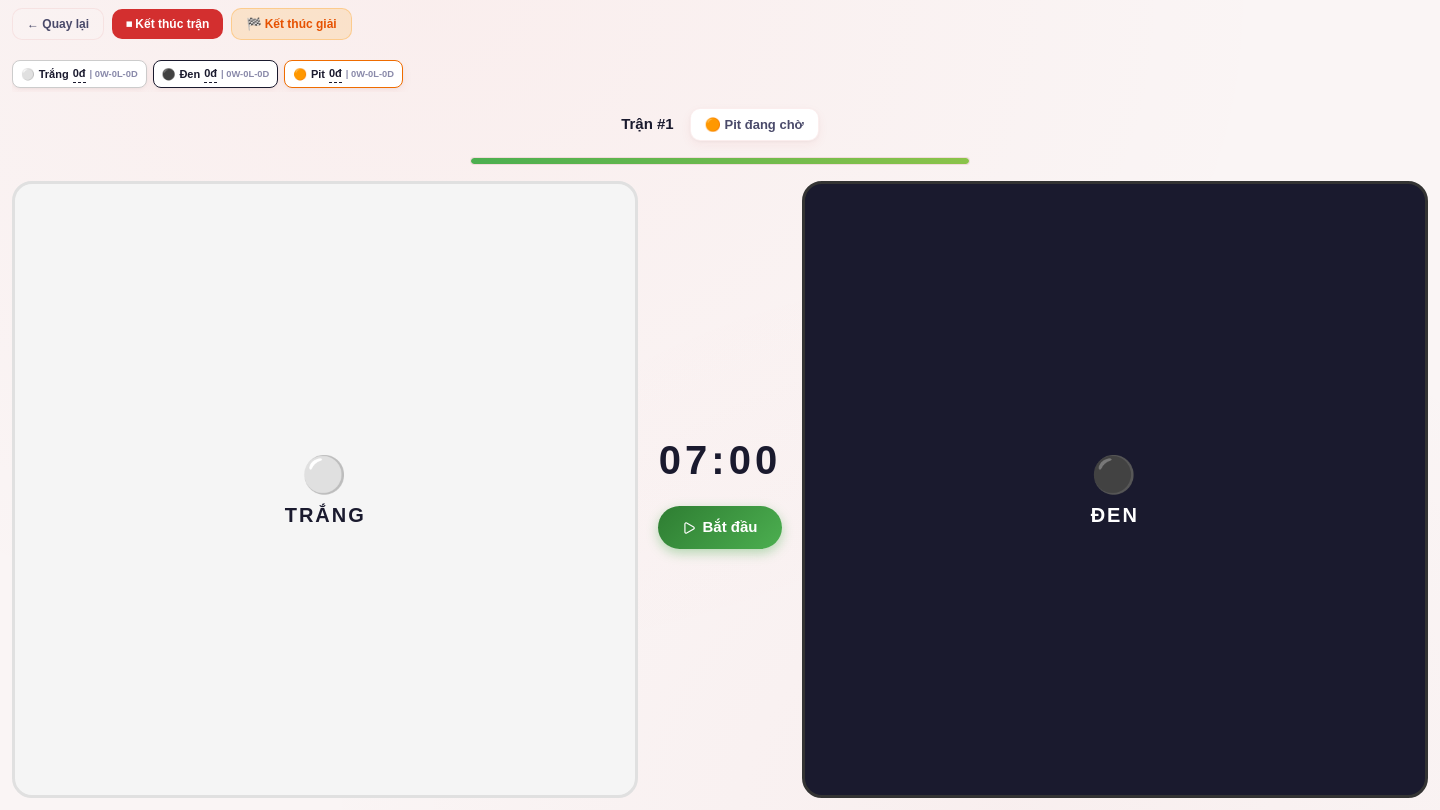
Test case: ThreeTeamMode › Scoring phase - Chọn tỉ số › click tỉ số → chuyển sang confirm phase
The image size is (1440, 810).
Click the button "⏹ Kết thúc trận".
click(168, 24)  # box x1=112 y1=9 x2=223 y2=39
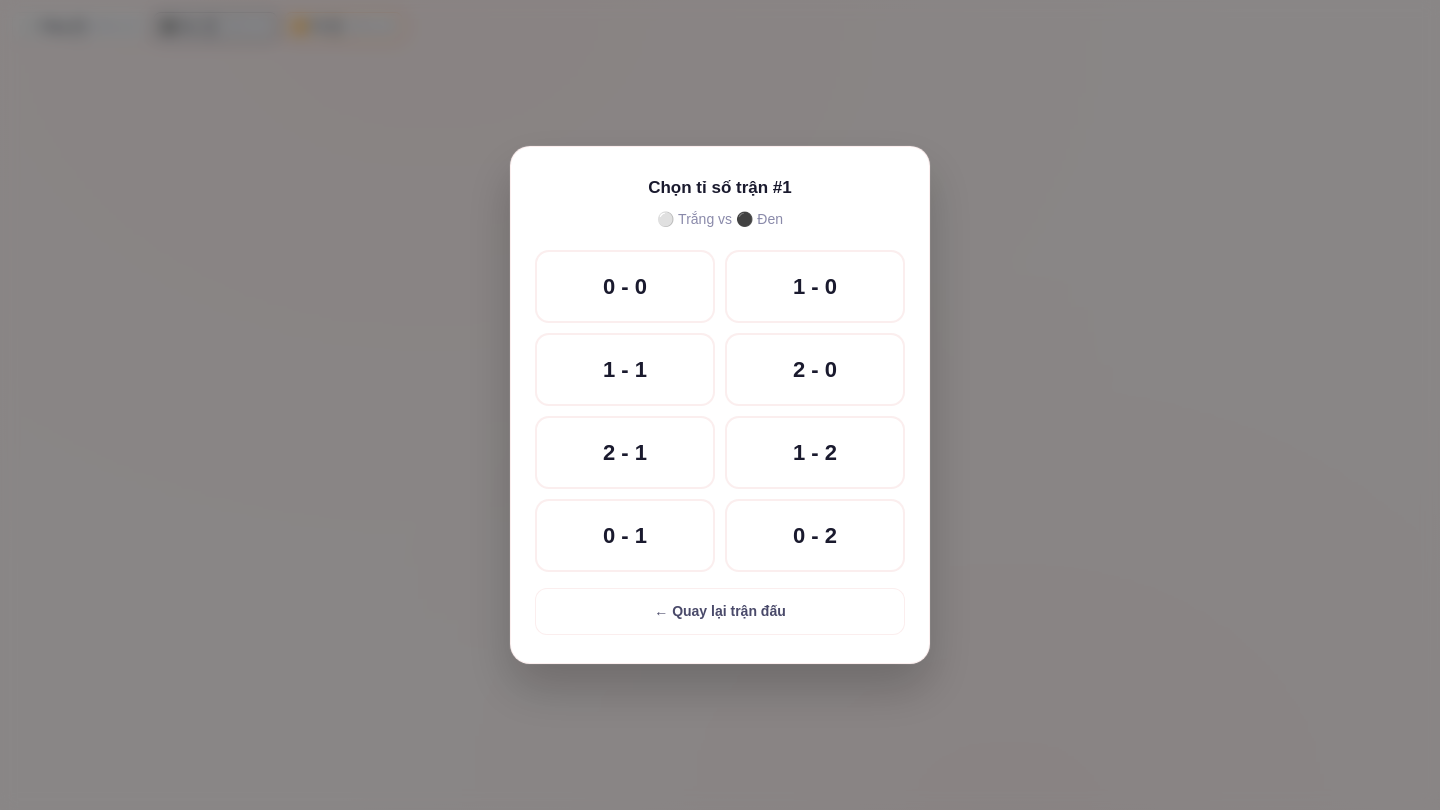
Click the button "2 - 1".
click(625, 452)  # box x1=535 y1=416 x2=715 y2=489
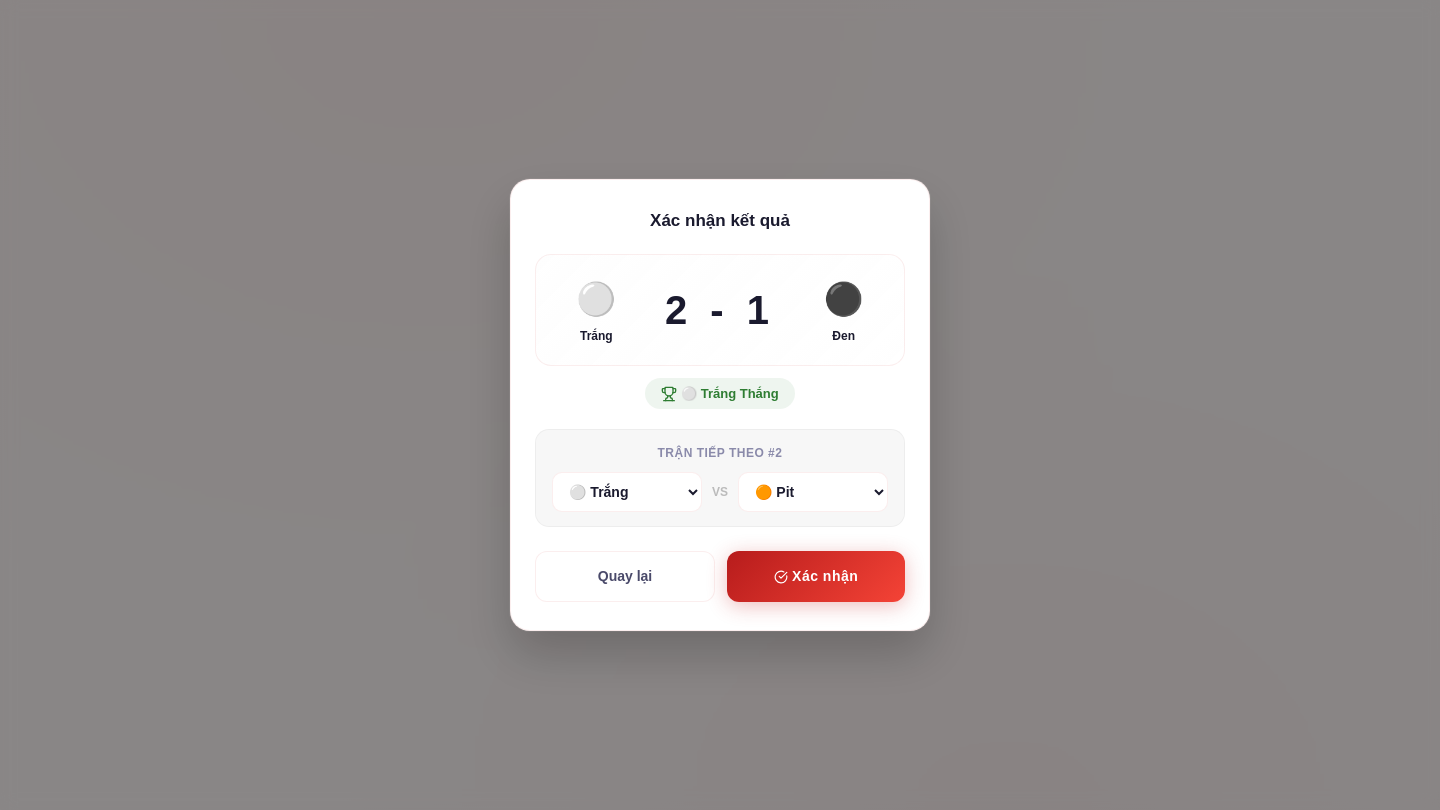
Now the heading "Xác nhận kết quả" is shown, box x1=650 y1=211 x2=790 y2=230
